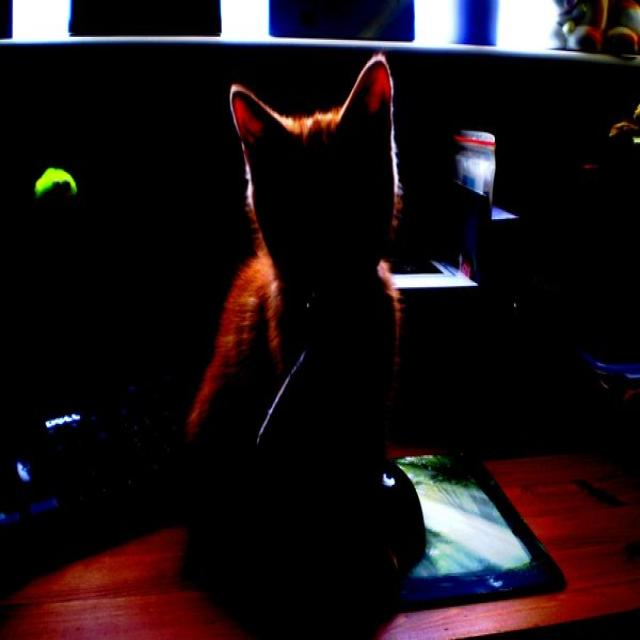Cat: (182, 38, 426, 640)
Table: (0, 434, 640, 640)
